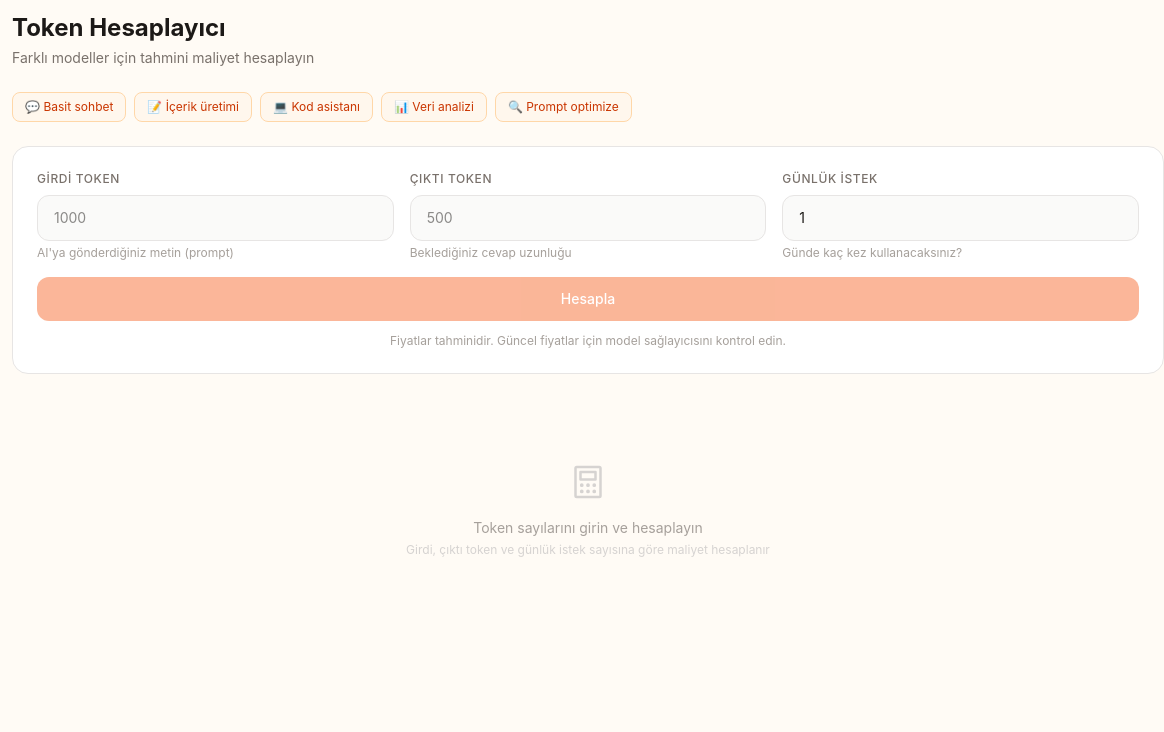
Test: Calculator — senaryo butonları › Veri analizi butonuna tıklayınca girdi 2000, çıktı 1000 olmalı
This screenshot has width=1164, height=732.
Click the button "📊 Veri analizi".
click(434, 107)  # box [381,92,487,122]
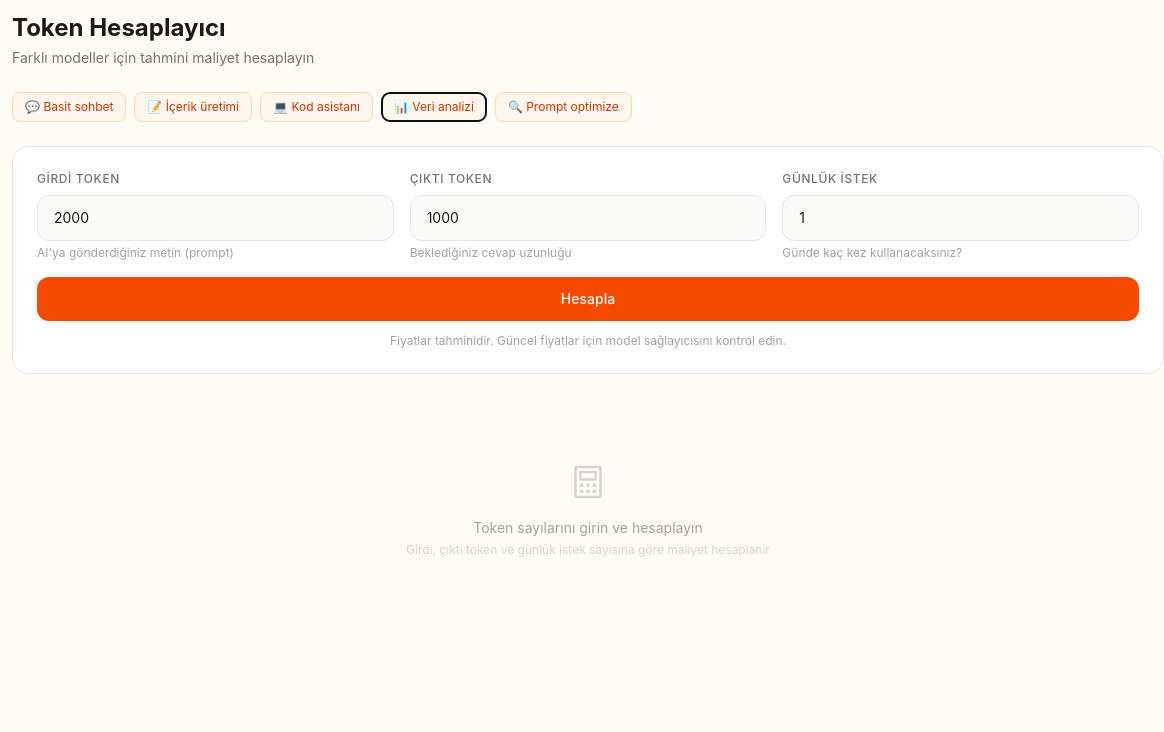
Now the number field with placeholder "1000" below "GİRDİ TOKEN" holds "2000", box [37,195,394,241]
Now the number field with placeholder "500" below "ÇIKTI TOKEN" holds "1000", box [410,195,766,241]
